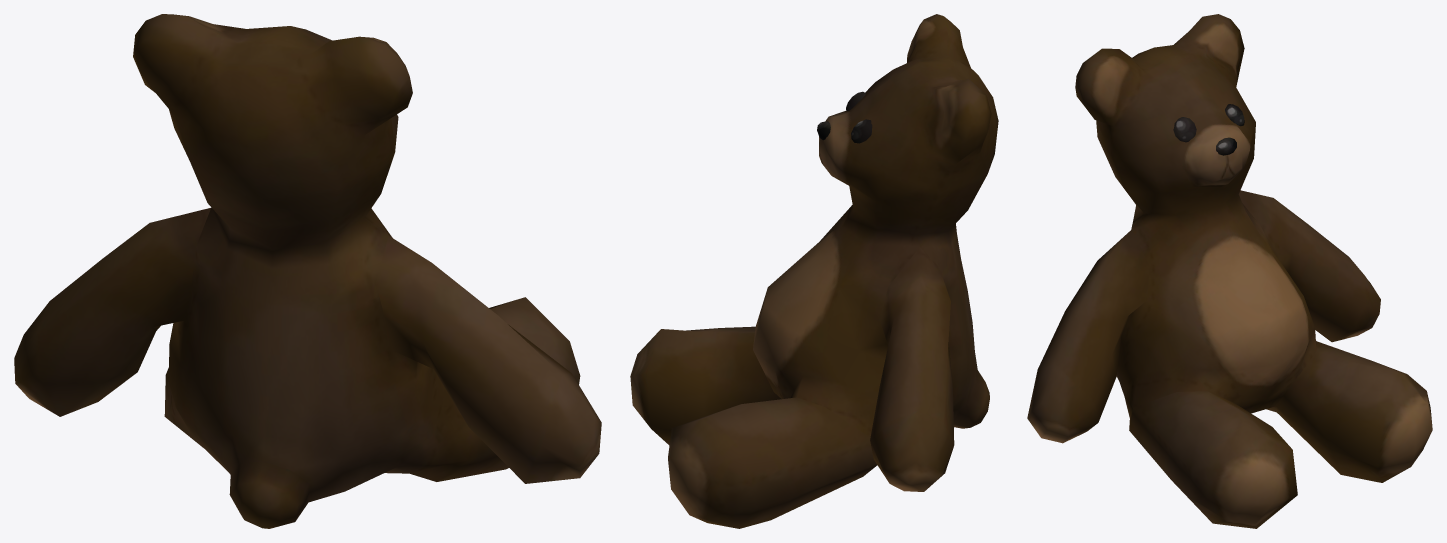
Rendered from ayıcık.fbx.
3 renders of one model, left to right at view 1: azimuth 30°, elevation 25°; view 2: azimuth 150°, elevation 25°; view 3: azimuth 270°, elevation 25°, orthographic. The views are drawn at different scales.
Parts seen in each view (by area): view 1: Bear; view 2: Bear; view 3: Bear.
Part boxes in pixels (x1=…): Bear: x1=14, y1=14, x2=601, y2=528; Bear: x1=630, y1=14, x2=998, y2=528; Bear: x1=1027, y1=14, x2=1432, y2=528.
Bounding box in the file's own units: 52.47 × 57.96 × 54.01.
1 material, 1 textured.
